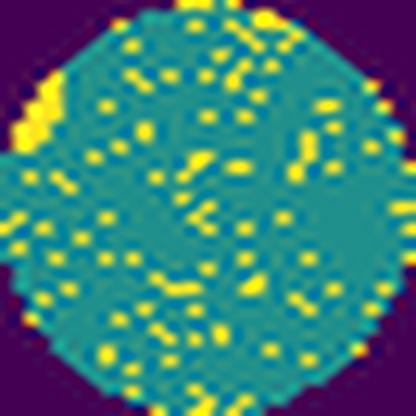Edge-Loc: (11, 64, 71, 154)
